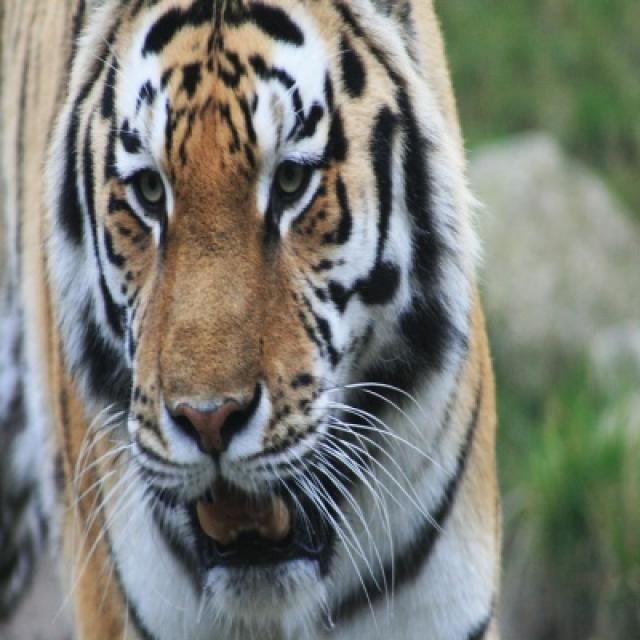Tiger: (2, 0, 503, 638)
